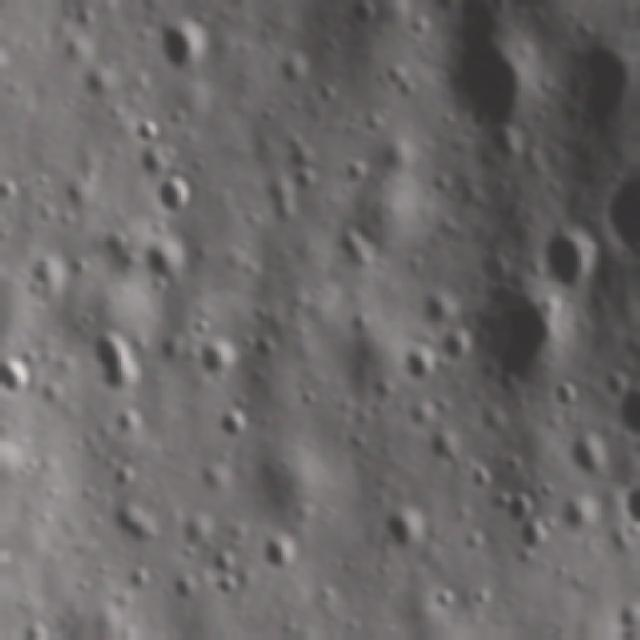crater: (425, 24, 547, 154), (454, 279, 571, 395), (559, 29, 636, 145), (526, 222, 602, 300), (82, 326, 144, 414), (146, 20, 217, 83), (374, 500, 432, 566), (599, 176, 639, 264), (193, 331, 247, 391), (134, 246, 192, 300), (565, 432, 613, 486), (154, 178, 203, 222), (510, 518, 558, 562), (427, 0, 561, 15), (1, 353, 39, 404), (263, 533, 302, 582), (207, 410, 255, 448), (110, 410, 147, 448), (615, 483, 640, 539), (164, 578, 205, 612), (617, 392, 640, 448), (212, 547, 238, 585), (215, 579, 252, 603), (3, 446, 22, 492), (0, 217, 2, 268)
